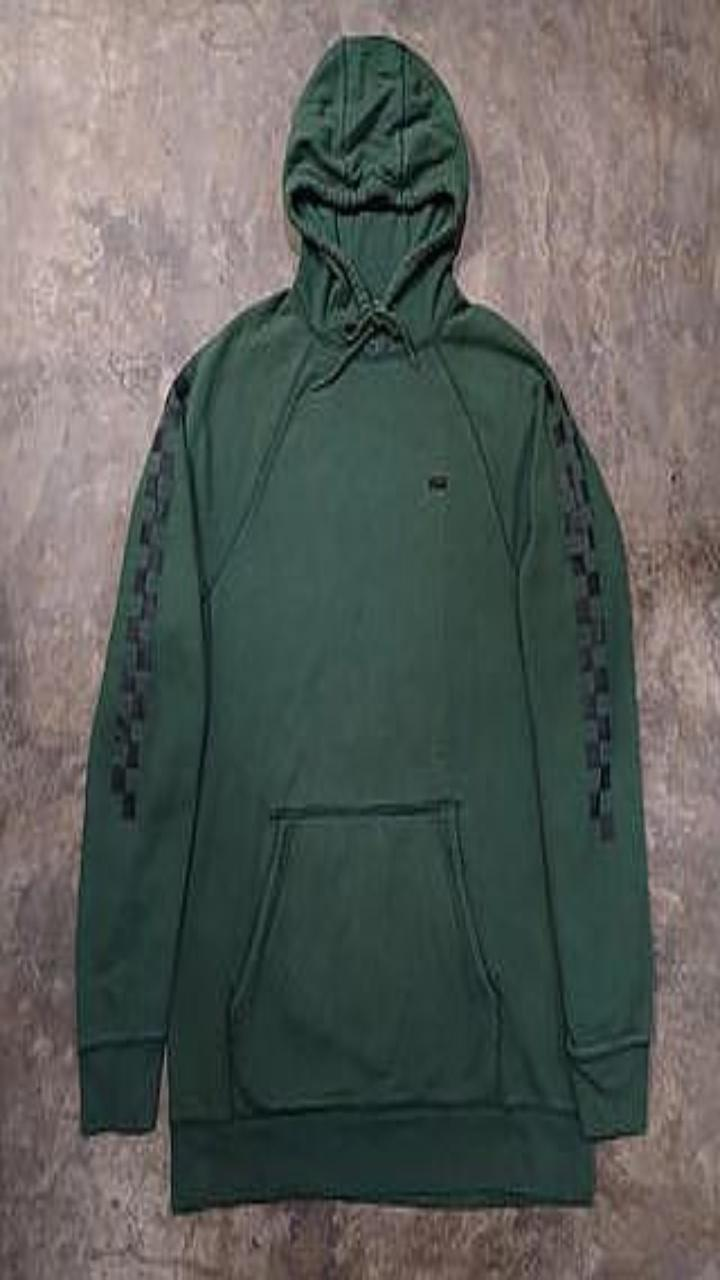Hoodie: (76, 35, 652, 1211)
